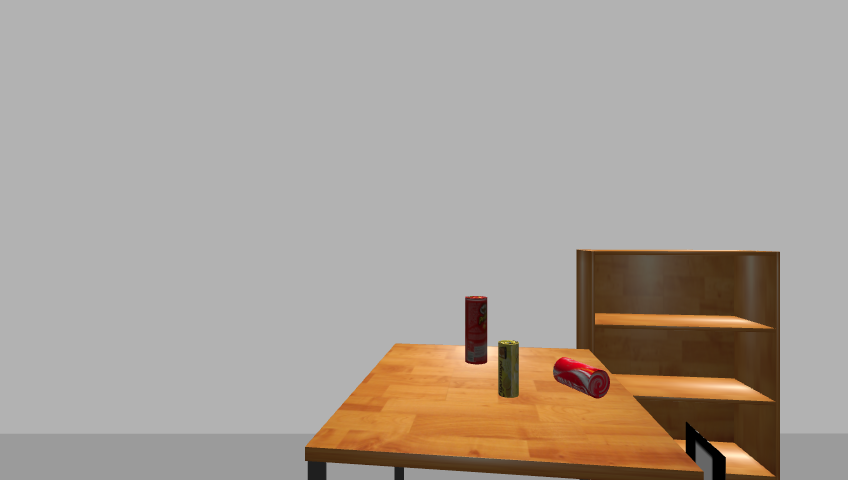aruco marker: (678, 421, 730, 479)
biscuits pack: (497, 337, 522, 400)
bookshelf: (570, 247, 784, 477)
coke can: (550, 355, 610, 399)
dinner table: (305, 339, 704, 480)
pringles can: (461, 294, 491, 368)
